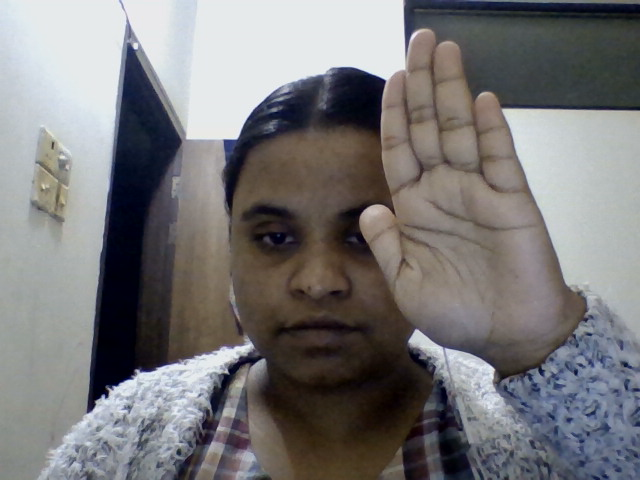hello: (355, 23, 607, 374)
